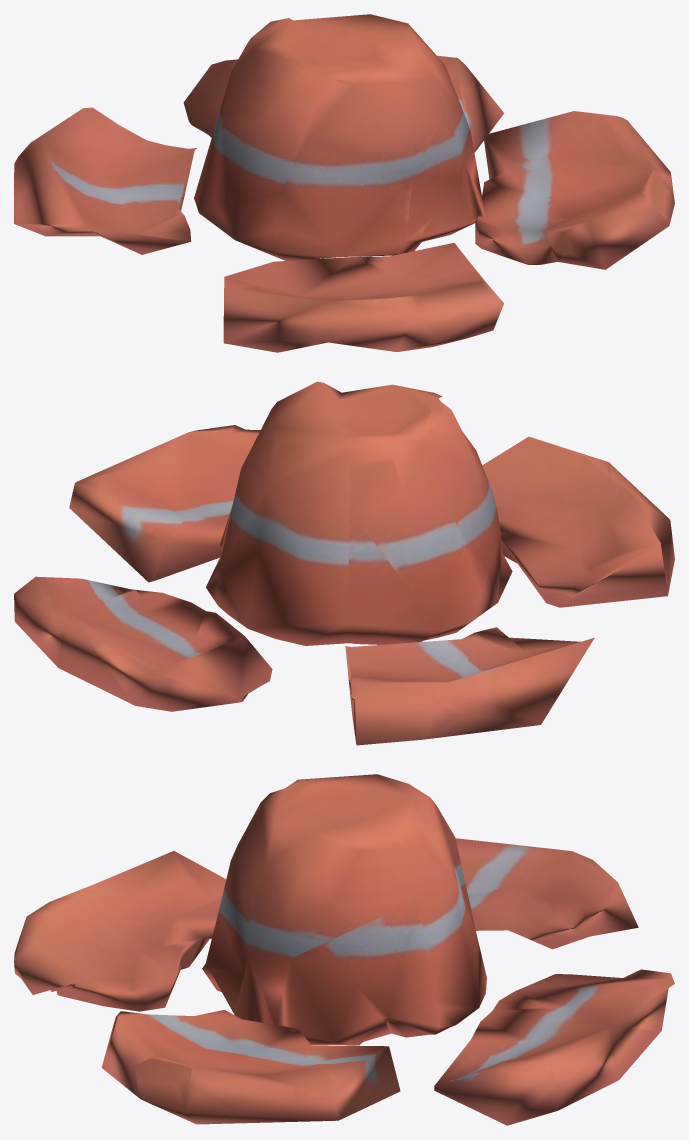
File: cr_vase_rubble-Ce_jdBAu.glb
3 renders of one model, top to bottom at view 1: azimuth 30°, elevation 25°; view 2: azimuth 150°, elevation 25°; view 3: azimuth 270°, elevation 25°, orthographic. The views are drawn at different scales.
Parts seen in each view (by area): view 1: tripo_node_2f663ca3-9c71-42ed-8de4-6a6df0f80fca; view 2: tripo_node_2f663ca3-9c71-42ed-8de4-6a6df0f80fca; view 3: tripo_node_2f663ca3-9c71-42ed-8de4-6a6df0f80fca.
Boxes of the visible parts, x1=… form: tripo_node_2f663ca3-9c71-42ed-8de4-6a6df0f80fca: x1=14, y1=14, x2=674, y2=352; tripo_node_2f663ca3-9c71-42ed-8de4-6a6df0f80fca: x1=14, y1=381, x2=674, y2=745; tripo_node_2f663ca3-9c71-42ed-8de4-6a6df0f80fca: x1=14, y1=774, x2=674, y2=1125.
Size of the model in its own units: 1.53 by 0.5373 by 1.6.
1 material, 1 textured.
